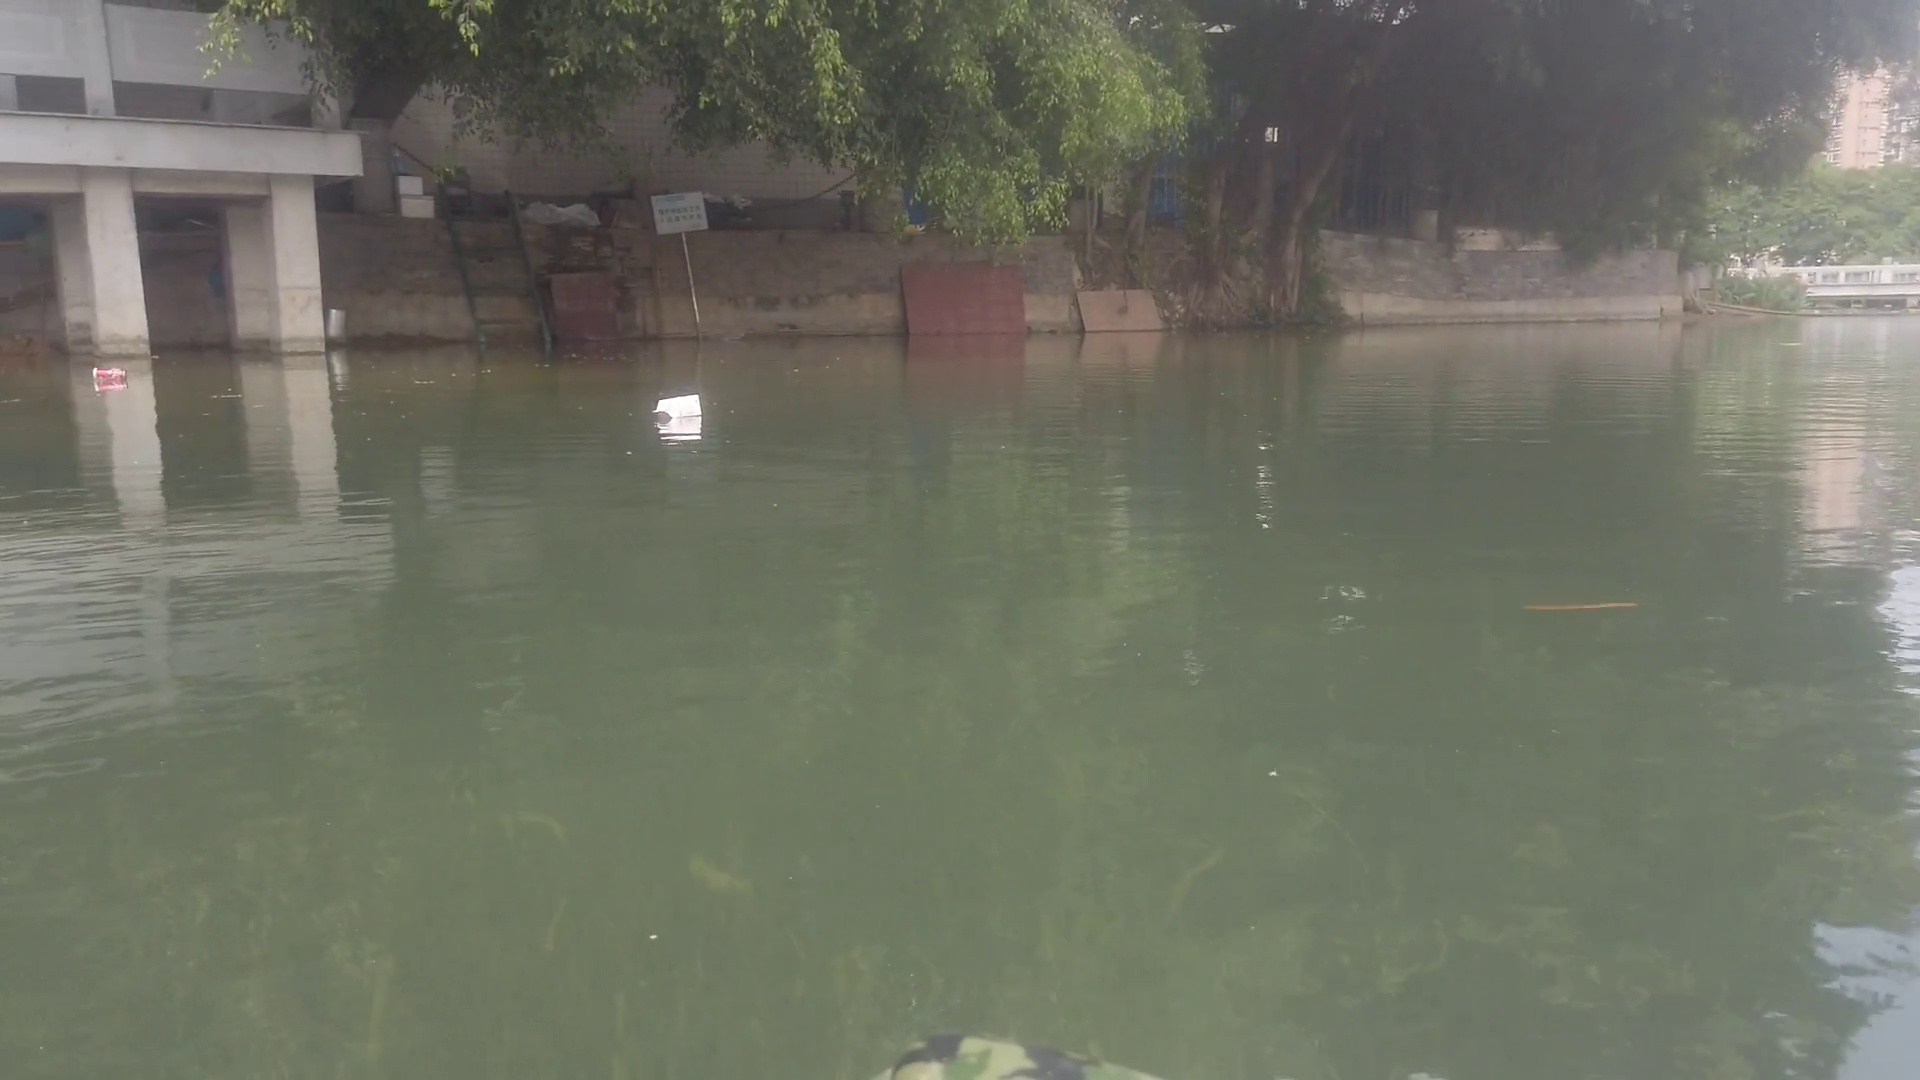bottle: (91, 364, 129, 386)
carton: (649, 392, 708, 425)
